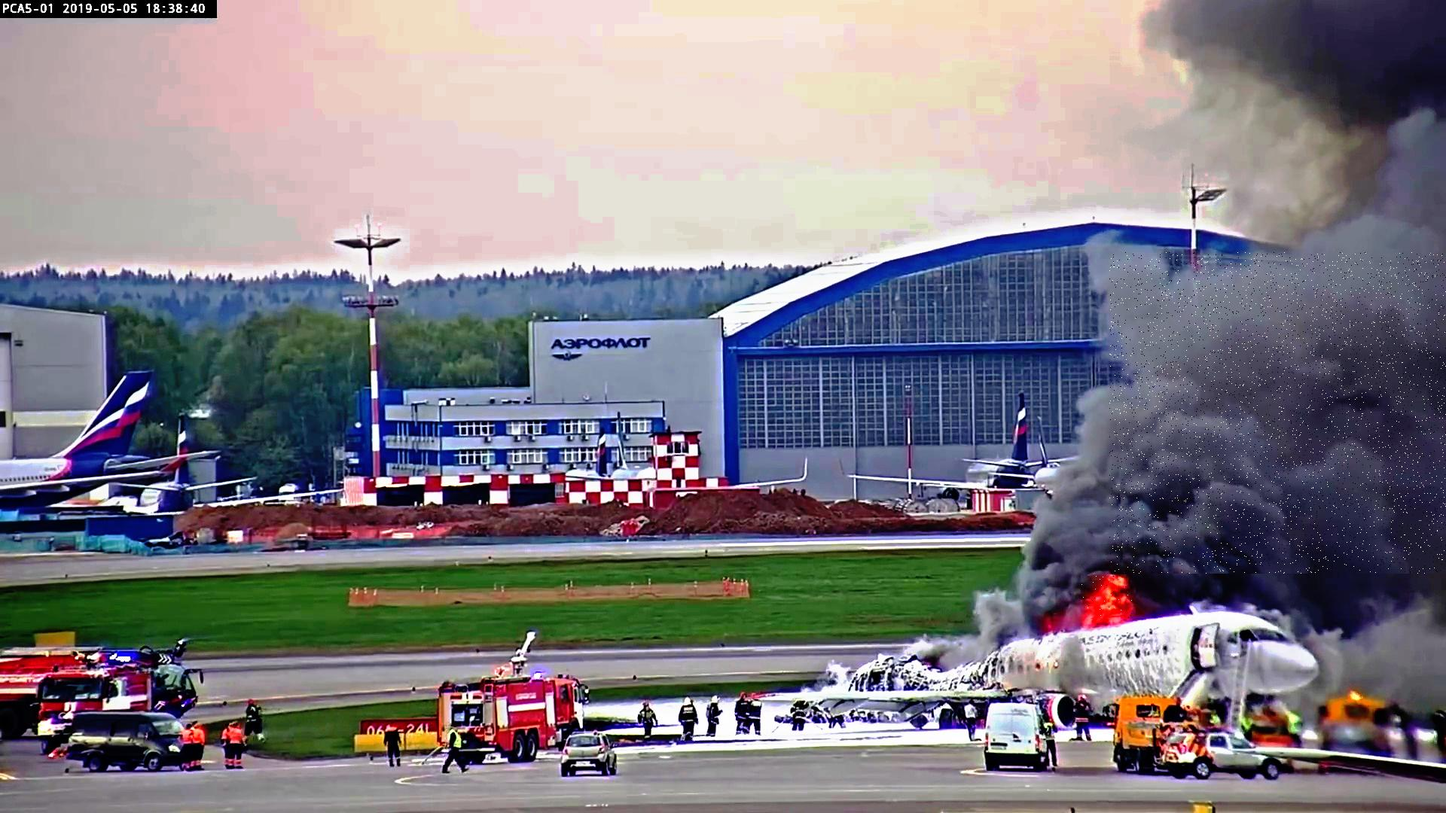fire: (1081, 574, 1138, 619)
smoke: (1109, 253, 1446, 574)
